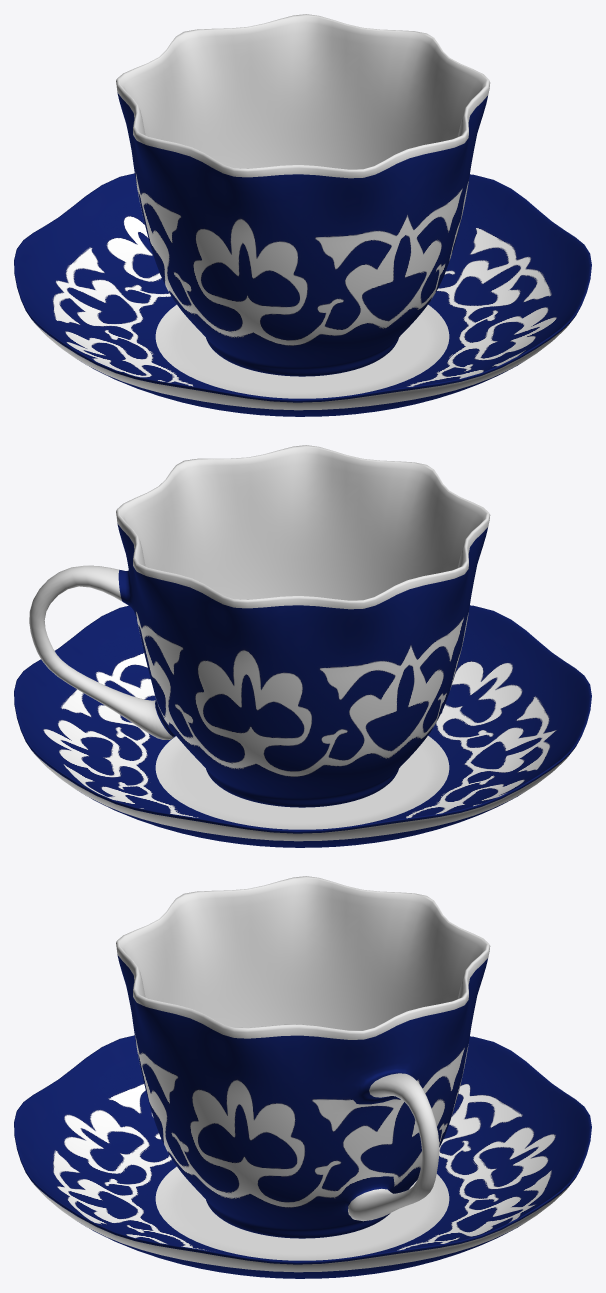
The model's file is Cup_cotton.dae.
The picture shows the model from 3 angles, top to bottom: view 1: azimuth 30°, elevation 25°; view 2: azimuth 150°, elevation 25°; view 3: azimuth 270°, elevation 25°; orthographic projection.
Parts seen in each view (by area): view 1: Cup_cotton, Plate; view 2: Cup_cotton, Plate; view 3: Cup_cotton, Plate.
Part boxes in pixels (bbox=[...]): Cup_cotton: bbox=[116, 14, 490, 376]; Plate: bbox=[14, 173, 591, 416]; Cup_cotton: bbox=[29, 445, 490, 807]; Plate: bbox=[14, 605, 591, 847]; Cup_cotton: bbox=[116, 876, 490, 1238]; Plate: bbox=[14, 1035, 591, 1278].
Size of the model in its own units: 0.1965 by 0.197 by 0.0951.
2 materials, 1 textured.
